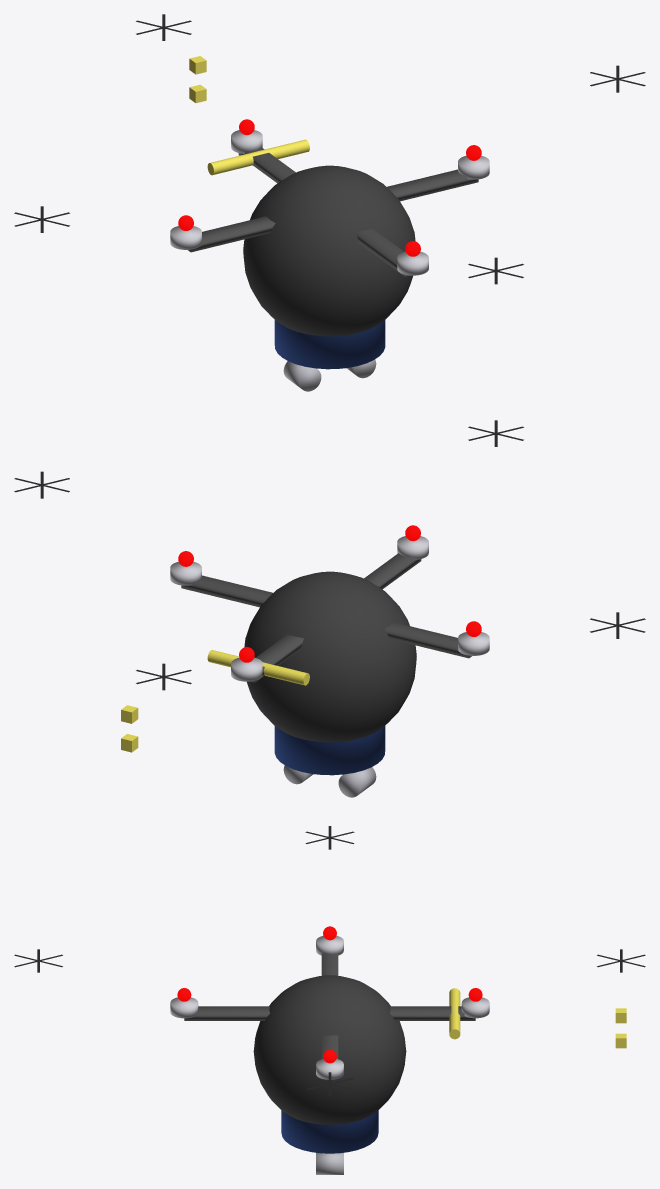
File: drone.glb
3 views of the same model, one above another, from view 1: azimuth 30°, elevation 25°; view 2: azimuth 150°, elevation 25°; view 3: azimuth 270°, elevation 25° (orthographic). The views are drawn at different scales.
Parts seen in each view (by area): view 1: Body, Hull, Cube, Cube.002, Cylinder.004, Cube.003, Cube.001, Cylinder.005, Cylinder.003, Cylinder.002, Cylinder, Cylinder.001; view 2: Body, Hull, Cube, Cube.002, Cylinder.004, Cube.003, Cube.001, Cylinder.005, Cylinder.001, Cylinder.002, Cylinder, Cylinder.003; view 3: Body, Hull, Cube.003, Cube.001, Cylinder.006, Cylinder.004, Cylinder.001, Cylinder.003.
Part boxes in pixels (x1,y1,x2,y2): Body: [243, 165, 415, 336]; Hull: [274, 320, 385, 369]; Cube: [387, 169, 478, 201]; Cube.002: [188, 216, 275, 252]; Cylinder.004: [207, 139, 309, 175]; Cube.003: [356, 228, 409, 276]; Cube.001: [238, 147, 295, 183]; Cylinder.005: [283, 361, 321, 391]; Cylinder.003: [397, 251, 428, 275]; Cylinder.002: [170, 226, 201, 249]; Cylinder: [458, 155, 489, 179]; Cylinder.001: [231, 130, 262, 153]; Body: [244, 571, 416, 742]; Hull: [274, 726, 385, 775]; Cube: [181, 575, 272, 607]; Cube.002: [384, 622, 471, 658]; Cylinder.004: [207, 650, 309, 685]; Cube.003: [364, 553, 421, 589]; Cube.001: [250, 634, 303, 682]; Cylinder.005: [338, 767, 376, 797]; Cylinder.001: [231, 657, 262, 681]; Cylinder.002: [458, 632, 489, 655]; Cylinder: [170, 561, 201, 585]; Cylinder.003: [397, 536, 428, 559]; Body: [253, 975, 406, 1124]; Hull: [281, 1110, 378, 1153]; Cube.003: [184, 1006, 269, 1020]; Cube.001: [390, 1006, 475, 1020]; Cylinder.006: [316, 1152, 343, 1174]; Cylinder.004: [449, 988, 460, 1039]; Cylinder.001: [461, 997, 489, 1018]; Cylinder.003: [170, 997, 198, 1018].
Size of the model in its own units: 4.6 by 1.6 by 4.56.
